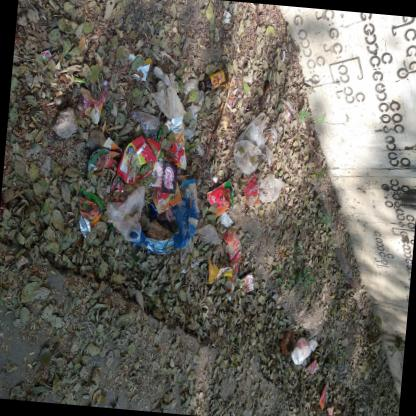Plastic: (129, 178, 198, 255), (232, 112, 277, 175), (85, 137, 125, 202), (105, 186, 144, 242), (115, 136, 155, 184), (150, 67, 185, 119), (78, 189, 102, 239), (134, 137, 160, 182), (163, 121, 186, 170), (206, 178, 233, 217), (150, 182, 181, 214), (221, 230, 242, 277), (129, 107, 158, 140), (148, 162, 177, 194), (76, 95, 102, 124), (291, 337, 317, 365), (206, 257, 232, 285), (256, 173, 281, 202), (184, 79, 204, 113), (125, 53, 149, 81), (198, 69, 228, 91), (243, 172, 259, 208), (193, 224, 219, 244), (179, 249, 200, 273), (91, 80, 108, 109), (219, 96, 233, 130), (221, 263, 234, 294), (147, 201, 166, 220), (240, 273, 253, 293), (318, 386, 328, 411), (306, 358, 318, 374), (39, 50, 51, 65), (285, 102, 293, 123), (170, 115, 183, 126), (183, 128, 194, 140), (195, 144, 204, 157), (326, 403, 332, 416)
Waste: (218, 211, 233, 230)
